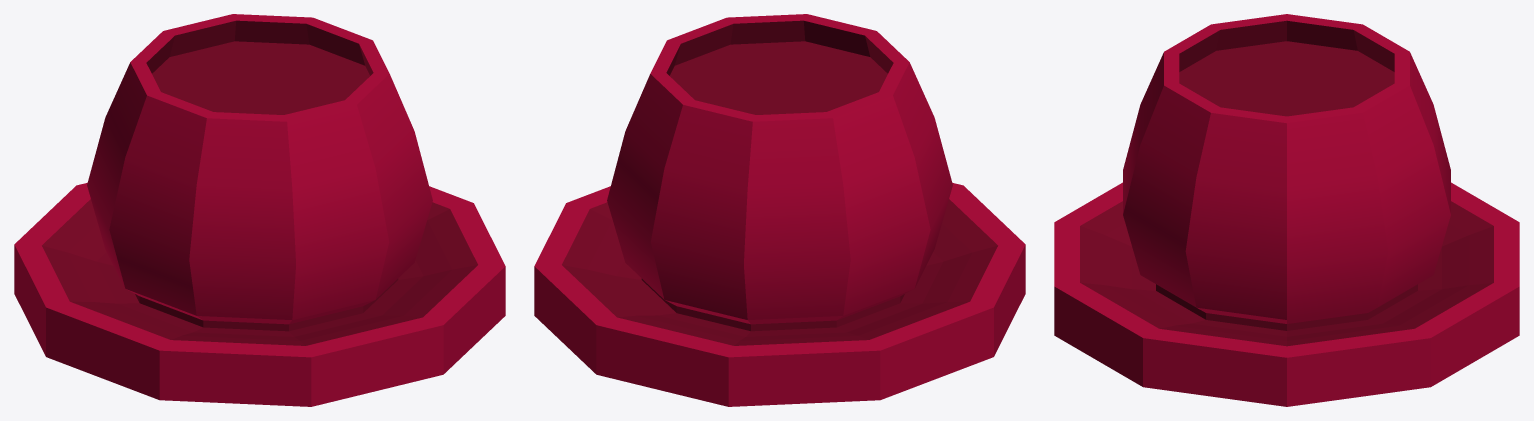
The model's file is drink water.fbx.
3 views of the same model, side by side, from view 1: azimuth 30°, elevation 25°; view 2: azimuth 150°, elevation 25°; view 3: azimuth 270°, elevation 25° (orthographic).
Visible parts, largest first — view 1: pCylinder19; view 2: pCylinder19; view 3: pCylinder19.
Boxes of the visible parts, x1,y1,x2,y2 form: pCylinder19: (14, 14, 505, 406); pCylinder19: (534, 14, 1025, 406); pCylinder19: (1054, 14, 1519, 406).
Bounding box in the file's own units: 0.8077 × 0.4276 × 0.7681.
